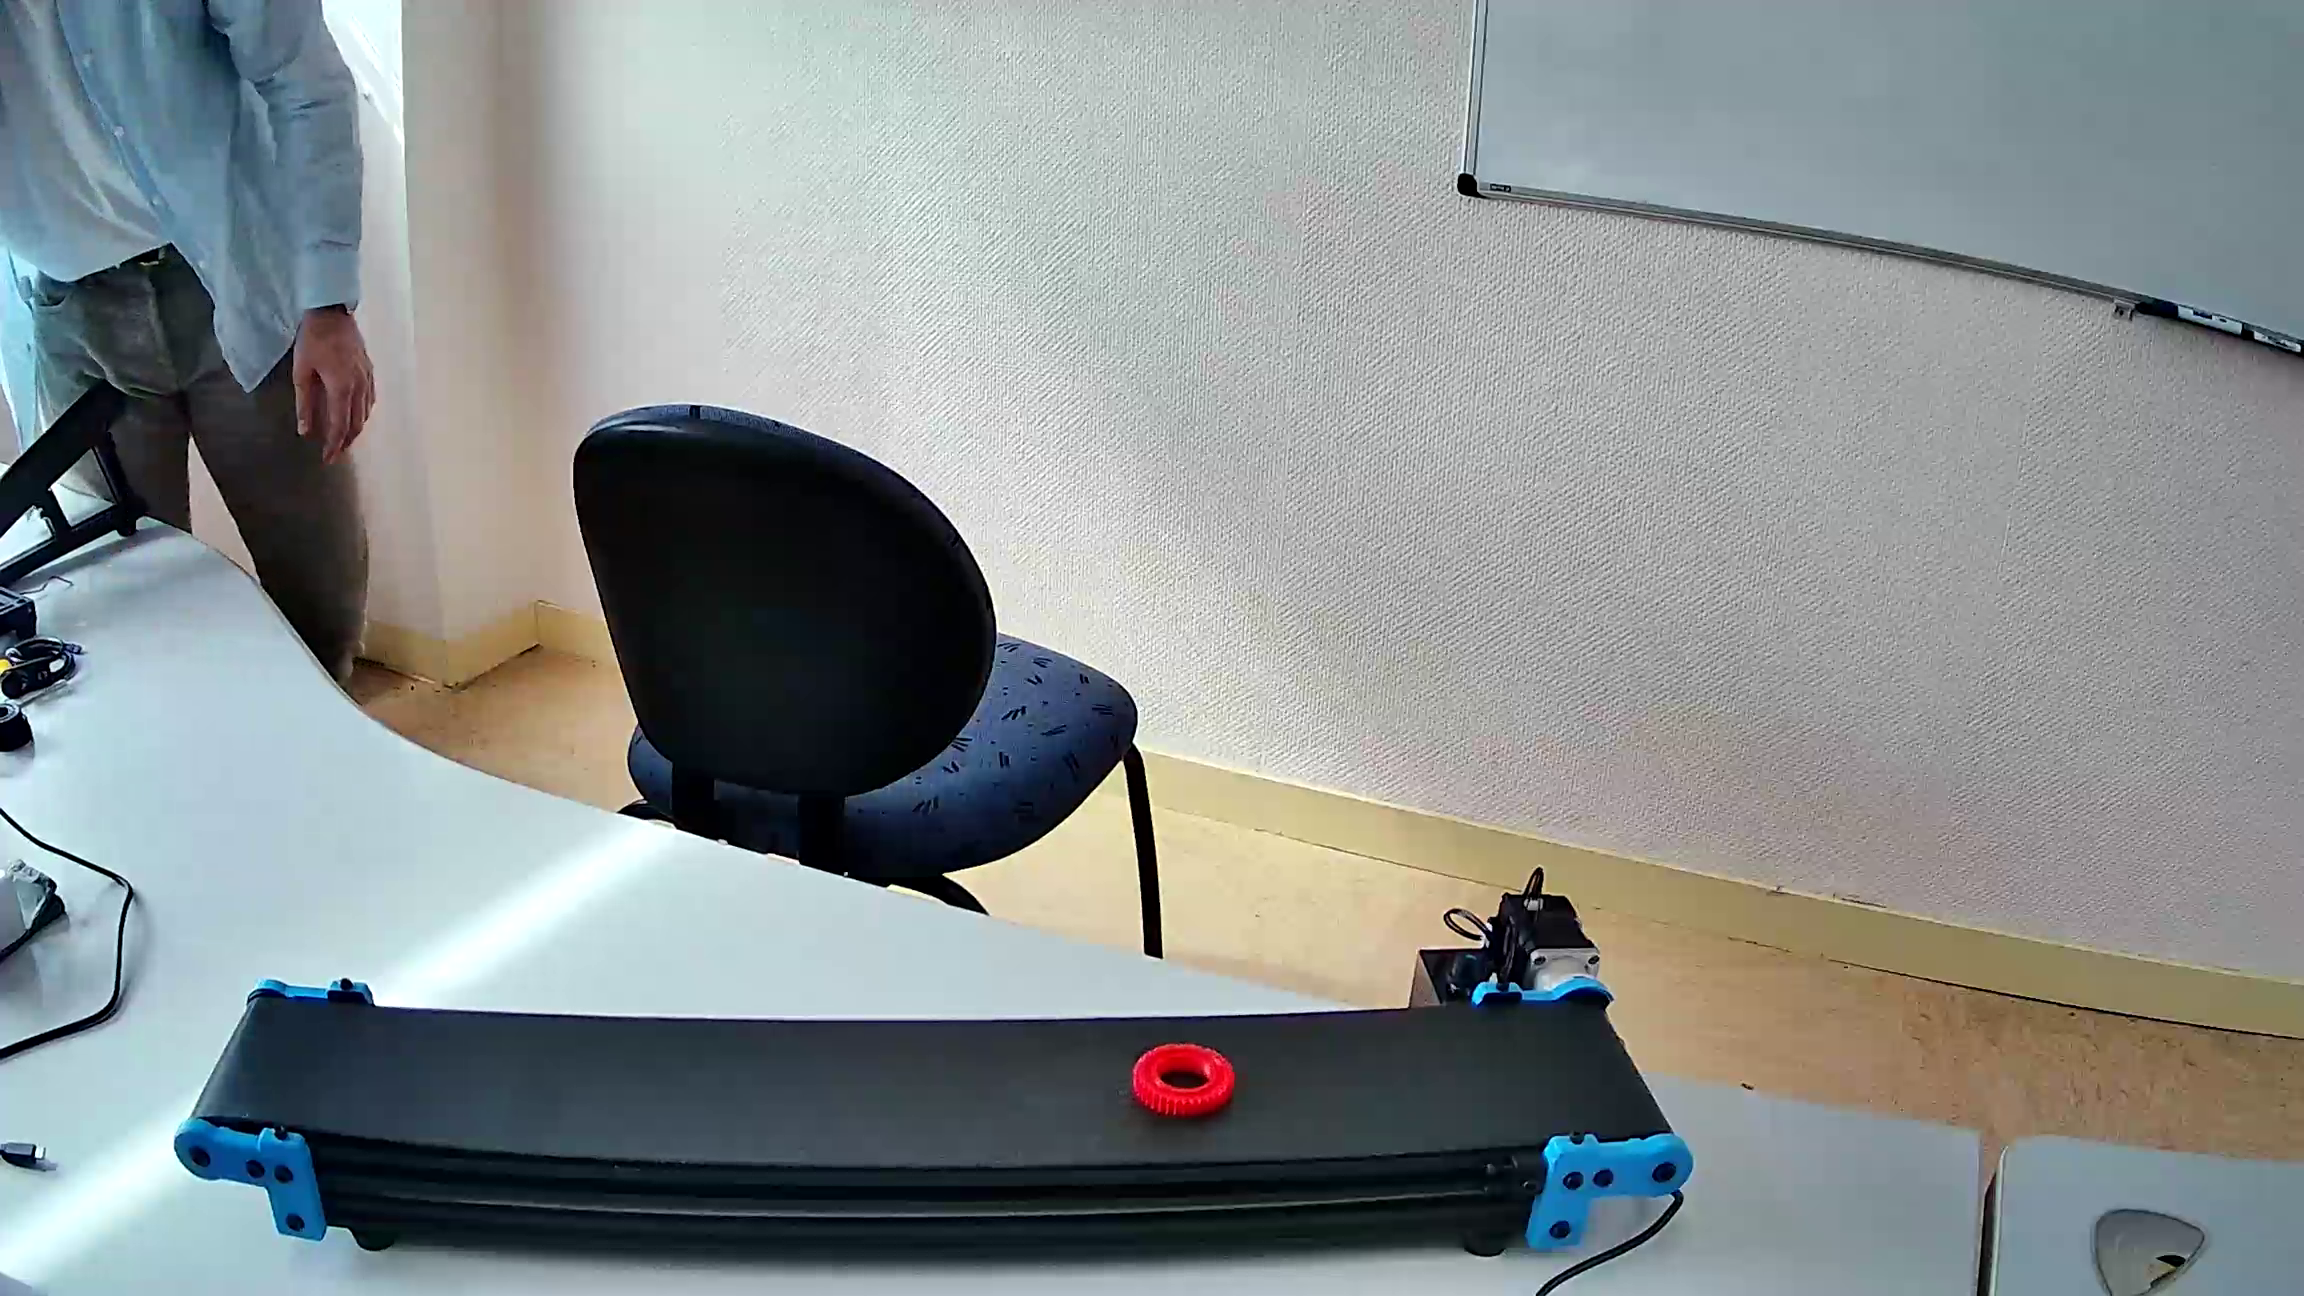not_good: (1131, 1041, 1237, 1117)
